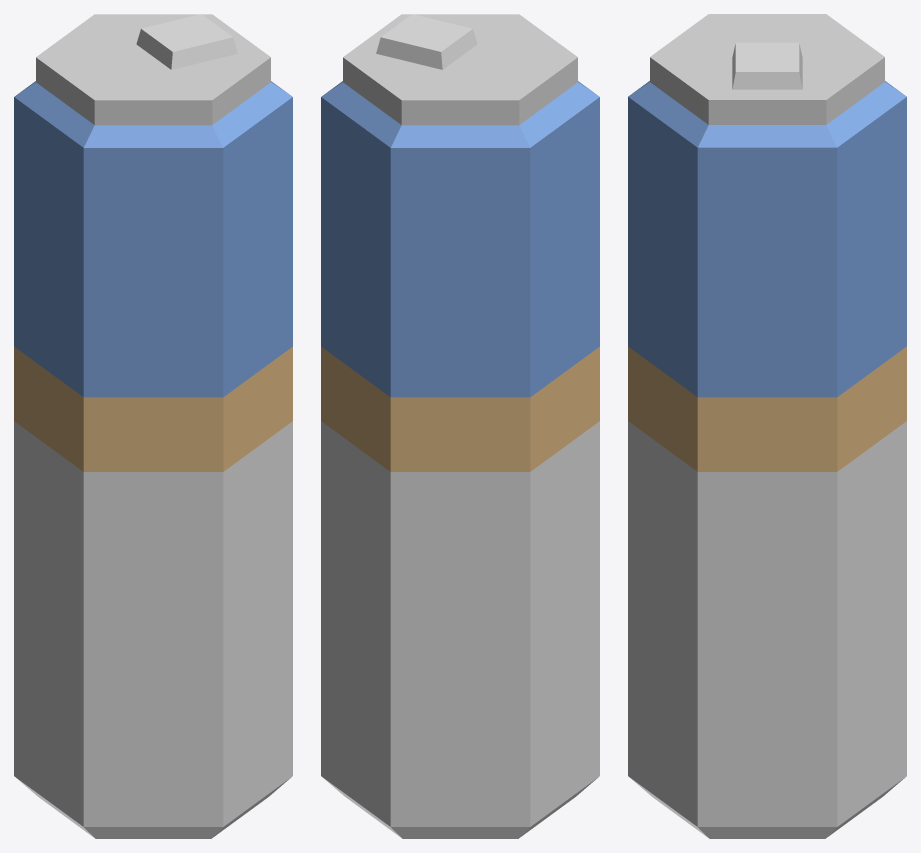
The model's file is can2.fbx.
The picture shows the model from 3 angles, left to right: view 1: azimuth 30°, elevation 25°; view 2: azimuth 150°, elevation 25°; view 3: azimuth 270°, elevation 25°; orthographic projection.
Visible parts, largest first — view 1: Can; view 2: Can; view 3: Can.
Part boxes in pixels (<box>): Can: <box>14,14,292,838</box>; Can: <box>321,14,599,838</box>; Can: <box>628,14,906,838</box>.
Bounding box in the file's own units: 7.13 × 24.62 × 8.24.
